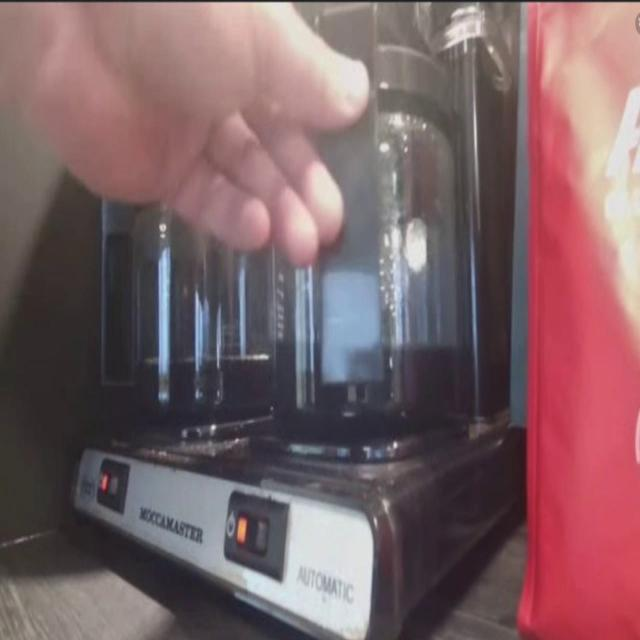coffee: (257, 9, 488, 437), (69, 49, 301, 454)
